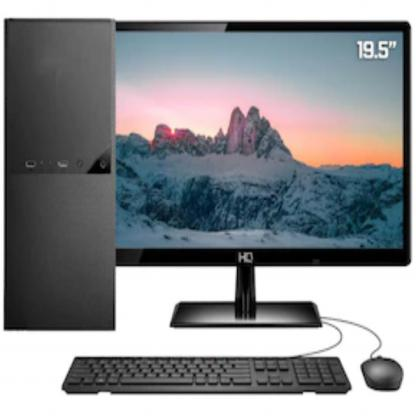DESKTOP: (2, 7, 416, 416)
